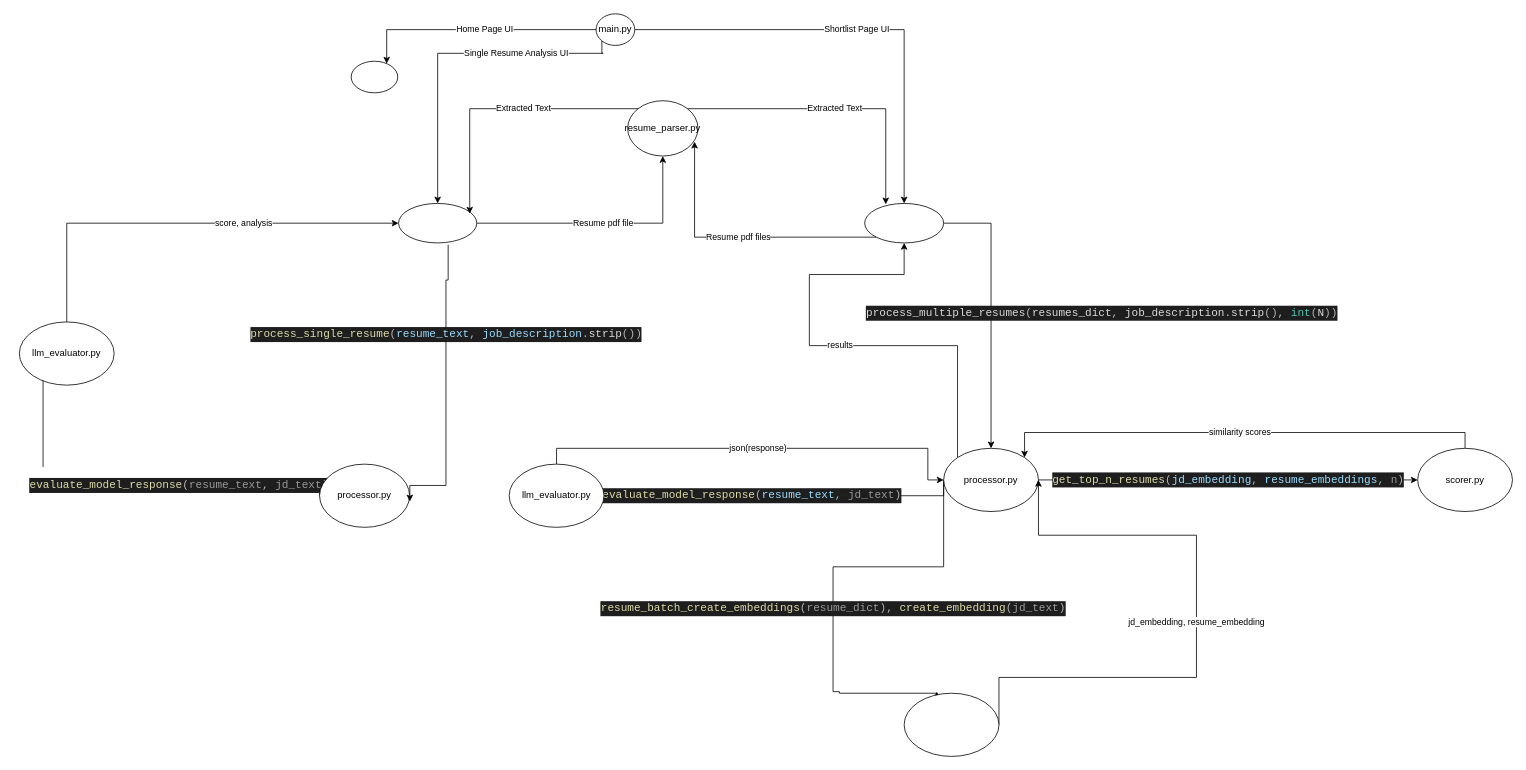
The diagram is 1526 pixels wide and 770 high, and some of its shapes have lost their labels. The centre of each missing label's shape, as x and y in pixels:
embeddings.py: (x=951, y=724)
home.py: (x=374, y=76)
shortlist.py: (x=904, y=223)
single_score.py: (x=437, y=223)
